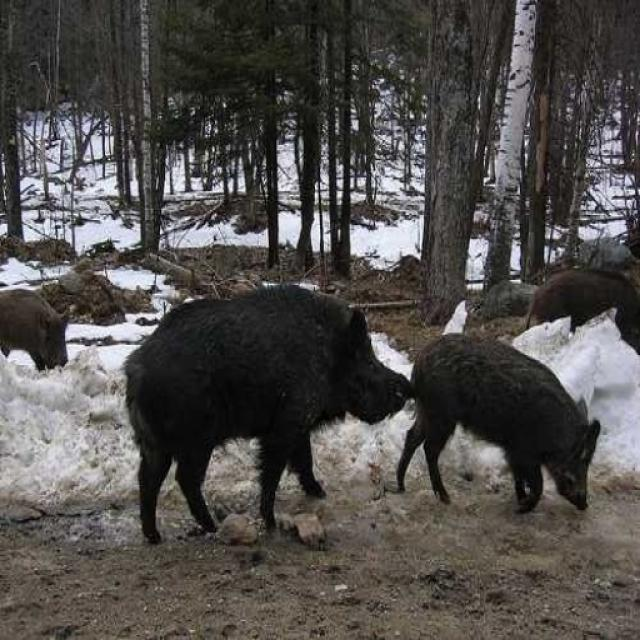pig: (117, 262, 402, 584), (433, 312, 613, 543), (509, 230, 640, 357), (0, 257, 94, 377)
